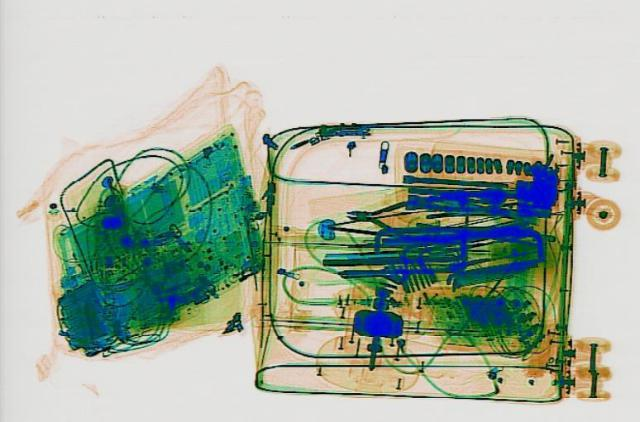Pliers: (342, 193, 434, 235)
